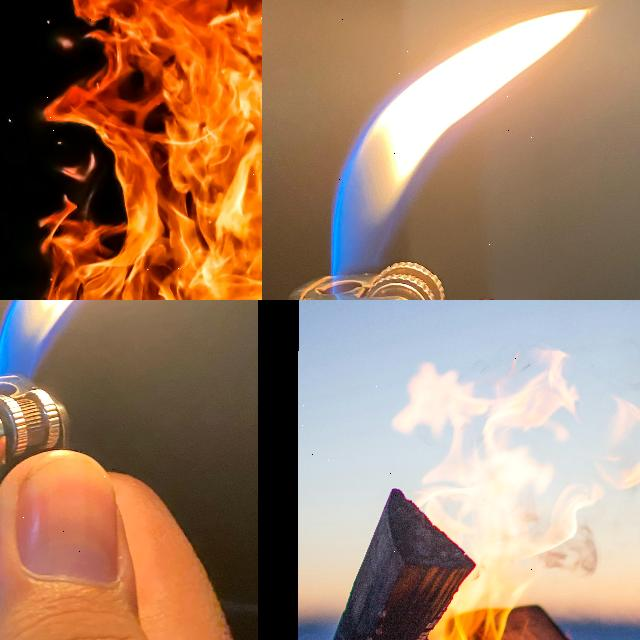fire: (335, 351, 599, 640), (332, 10, 588, 275), (0, 300, 77, 483)
fire-smoke: (0, 0, 262, 300)
